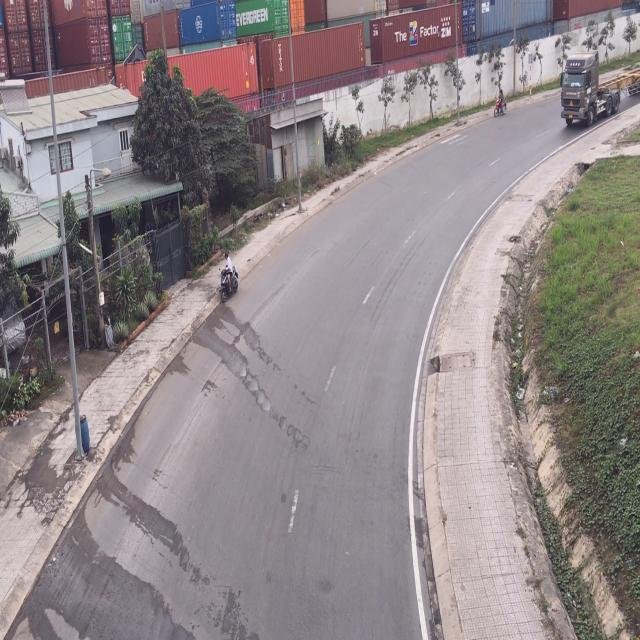motorbike: (220, 249, 243, 303), (494, 85, 509, 118)
truck: (560, 54, 640, 130)
